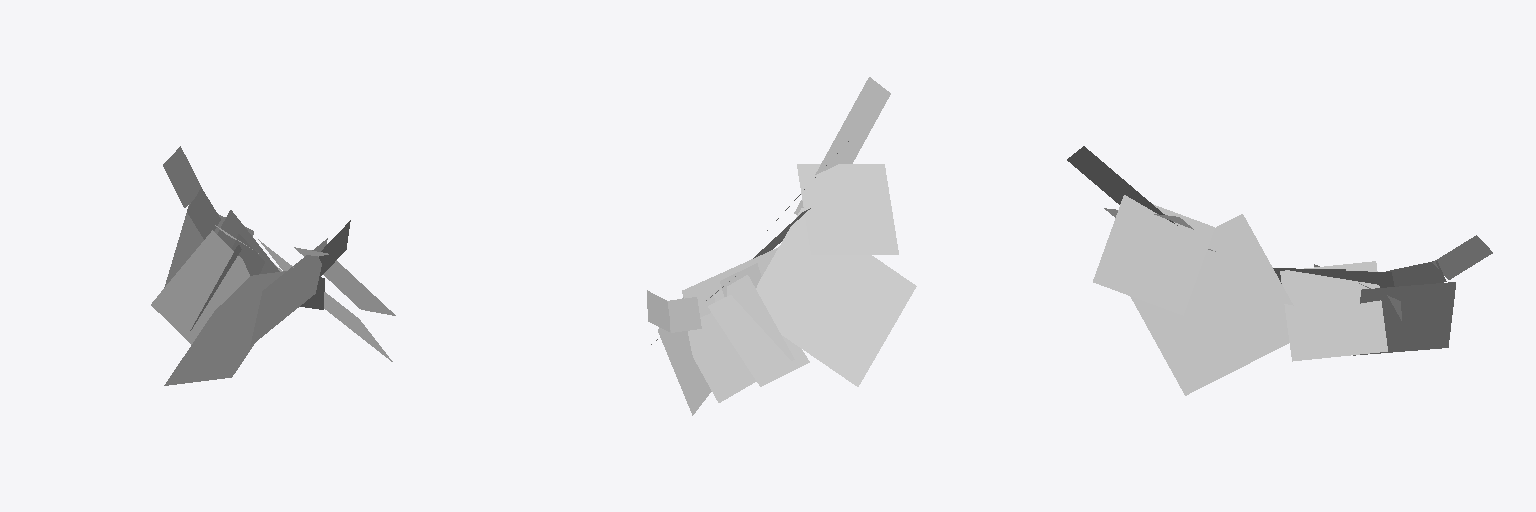
Rendered from spruce_long_branch_top.obj.
3 renders of one model, left to right at view 1: azimuth 30°, elevation 25°; view 2: azimuth 150°, elevation 25°; view 3: azimuth 270°, elevation 25°, orthographic.
Parts seen in each view (by area): view 1: cube.008, cube.005, cube.012, cube.011, cube.001, cube.007, cube.004, cube, cube.000, cube.010, cube.002; view 2: cube.008, cube.012, cube.003, cube.005, cube.010, cube.004, cube, cube.000, cube.001; view 3: cube.007, cube.011, cube.009, cube.004, cube.010, cube.001, cube.000, cube.
Part boxes in pixels (x1,y1,x2,y2): cube.008: (164,271,286,385); cube.005: (151,230,249,344); cube.012: (250,238,327,346); cube.011: (294,247,395,315); cube.001: (163,146,200,207); cube.007: (258,239,392,361); cube.004: (164,203,253,287); cube: (217,210,279,273); cube.000: (187,187,220,239); cube.010: (319,220,350,277); cube.002: (232,234,264,275); cube.008: (756,208,916,386); cube.012: (797,164,898,254); cube.003: (688,275,794,402); cube.005: (708,295,809,386); cube.010: (794,77,890,214); cube.004: (658,297,711,415); cube: (682,247,778,317); cube.000: (667,297,701,332); cube.001: (647,290,669,331); cube.007: (1130,214,1293,395); cube.011: (1093,195,1214,315); cube.009: (1280,261,1387,361); cube.004: (1353,282,1455,355); cube.010: (1067,146,1177,225); cube.001: (1432,235,1492,279); cube.000: (1386,261,1446,286); cube: (1273,268,1394,287).
Bounding box in the file's own units: 1.22 × 1.39 × 2.48.